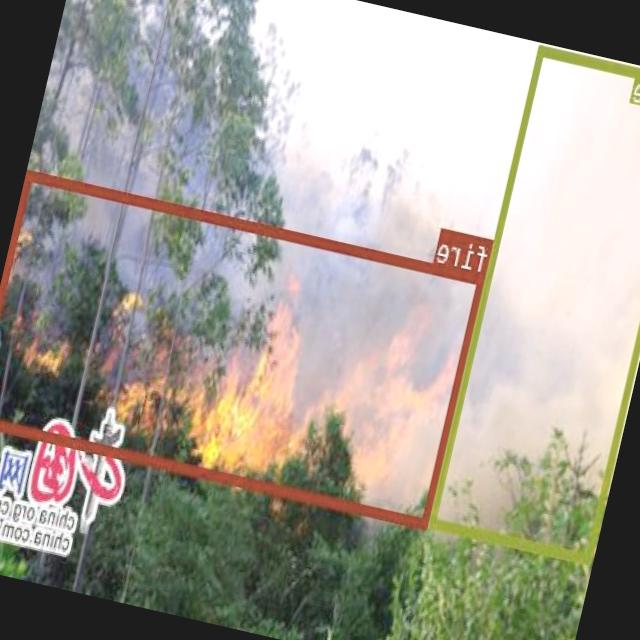fire: (0, 168, 486, 526)
smoke: (429, 43, 640, 564)
